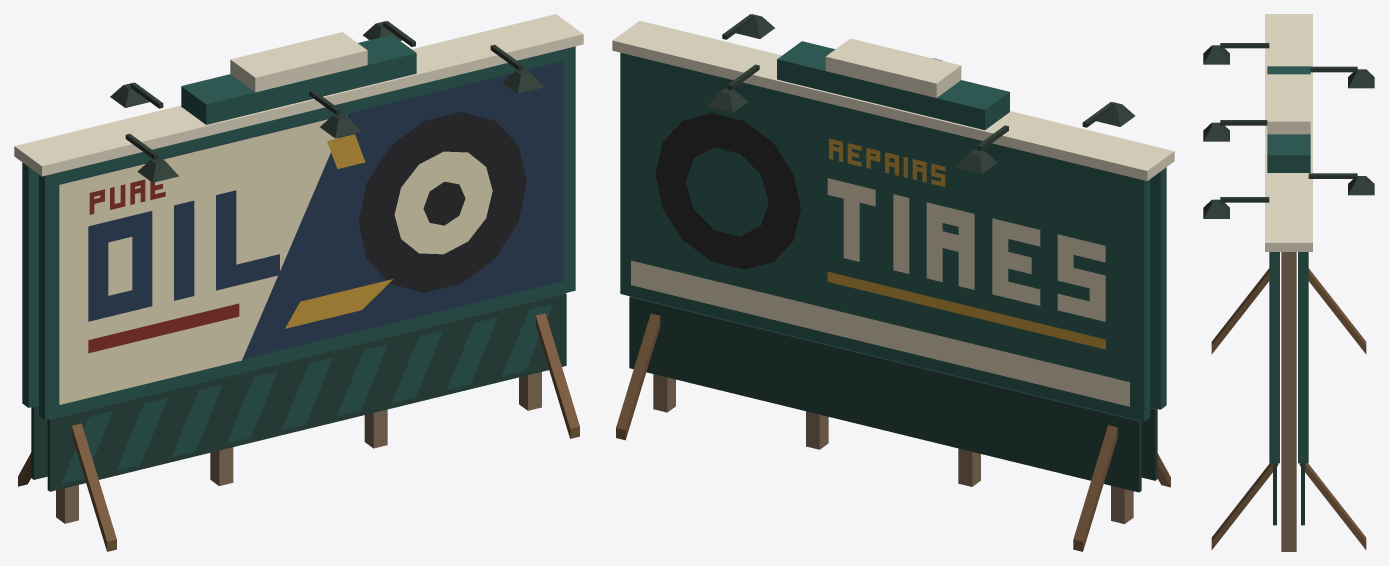
File: billboard_c.glb
3 renders of one model, left to right at view 1: azimuth 30°, elevation 25°; view 2: azimuth 150°, elevation 25°; view 3: azimuth 270°, elevation 25°, orthographic. The views are drawn at different scales.
Visible parts, largest first — view 1: billboard_c; view 2: billboard_c; view 3: billboard_c.
Part boxes in pixels (x1,y1,x2,y2): billboard_c: [14, 14, 583, 551]; billboard_c: [612, 14, 1174, 551]; billboard_c: [1203, 14, 1374, 551].
Size of the model in its own units: 7.72 by 5.55 by 2.44.
